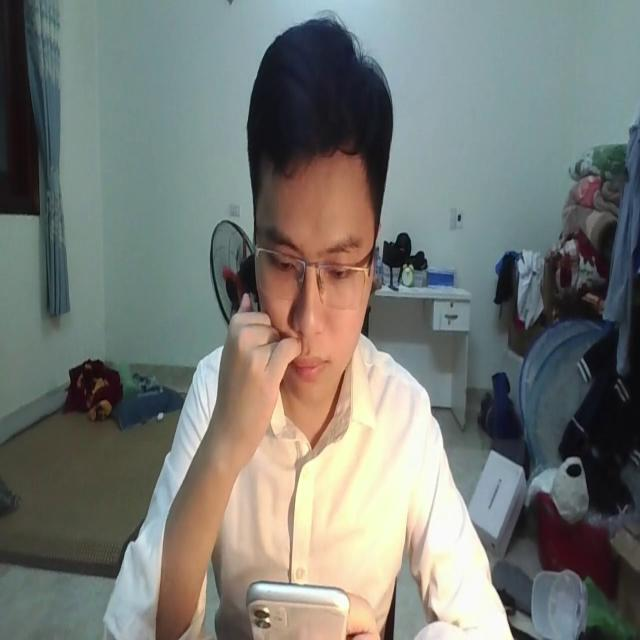phone: (246, 570, 349, 640)
student: (103, 17, 510, 640)
